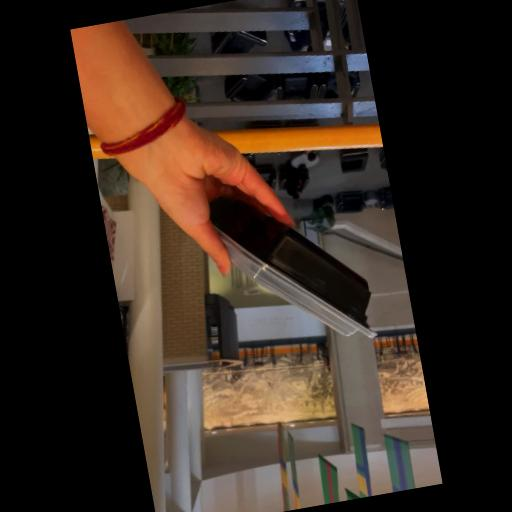rigid_plastic_container: (166, 114, 390, 374)
